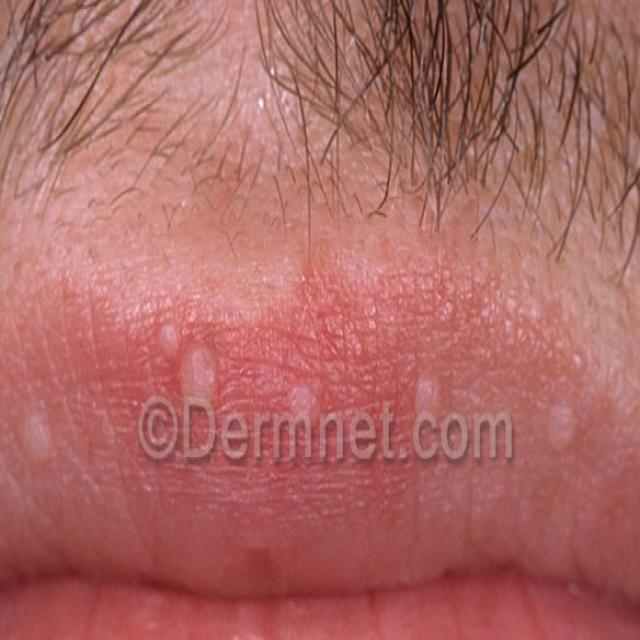Warts: (0, 315, 626, 502)
